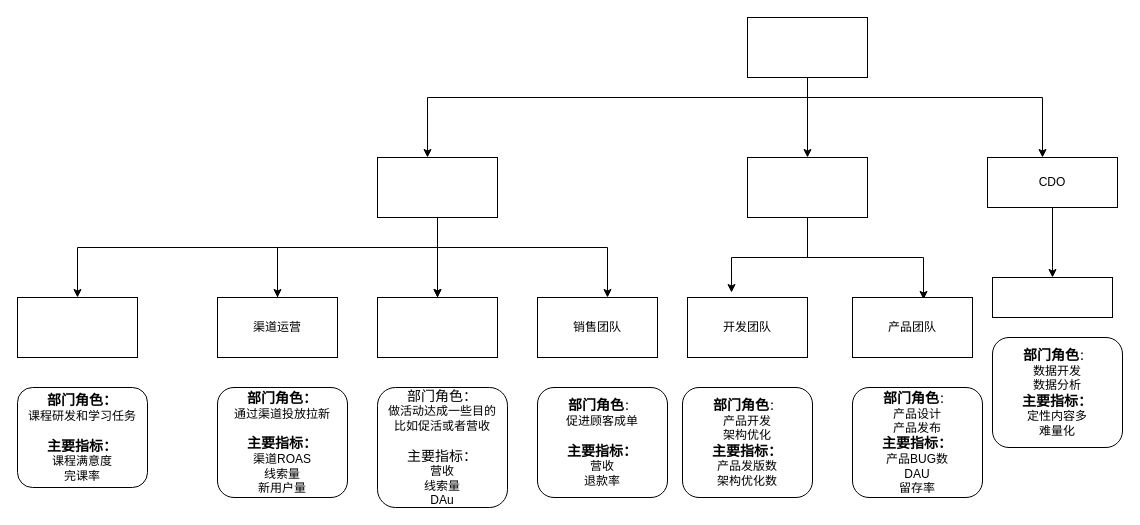
Some shapes in this 1140 by 525 pixel diagram are drawn without their labels. Each missing label, with the centre of its shape:
CEO: the point at 807,47
CTO: the point at 807,187
事业部总经理: the point at 437,187
教研教务团队: the point at 77,327
数据中台: the point at 1052,297
活动运营: the point at 437,327
